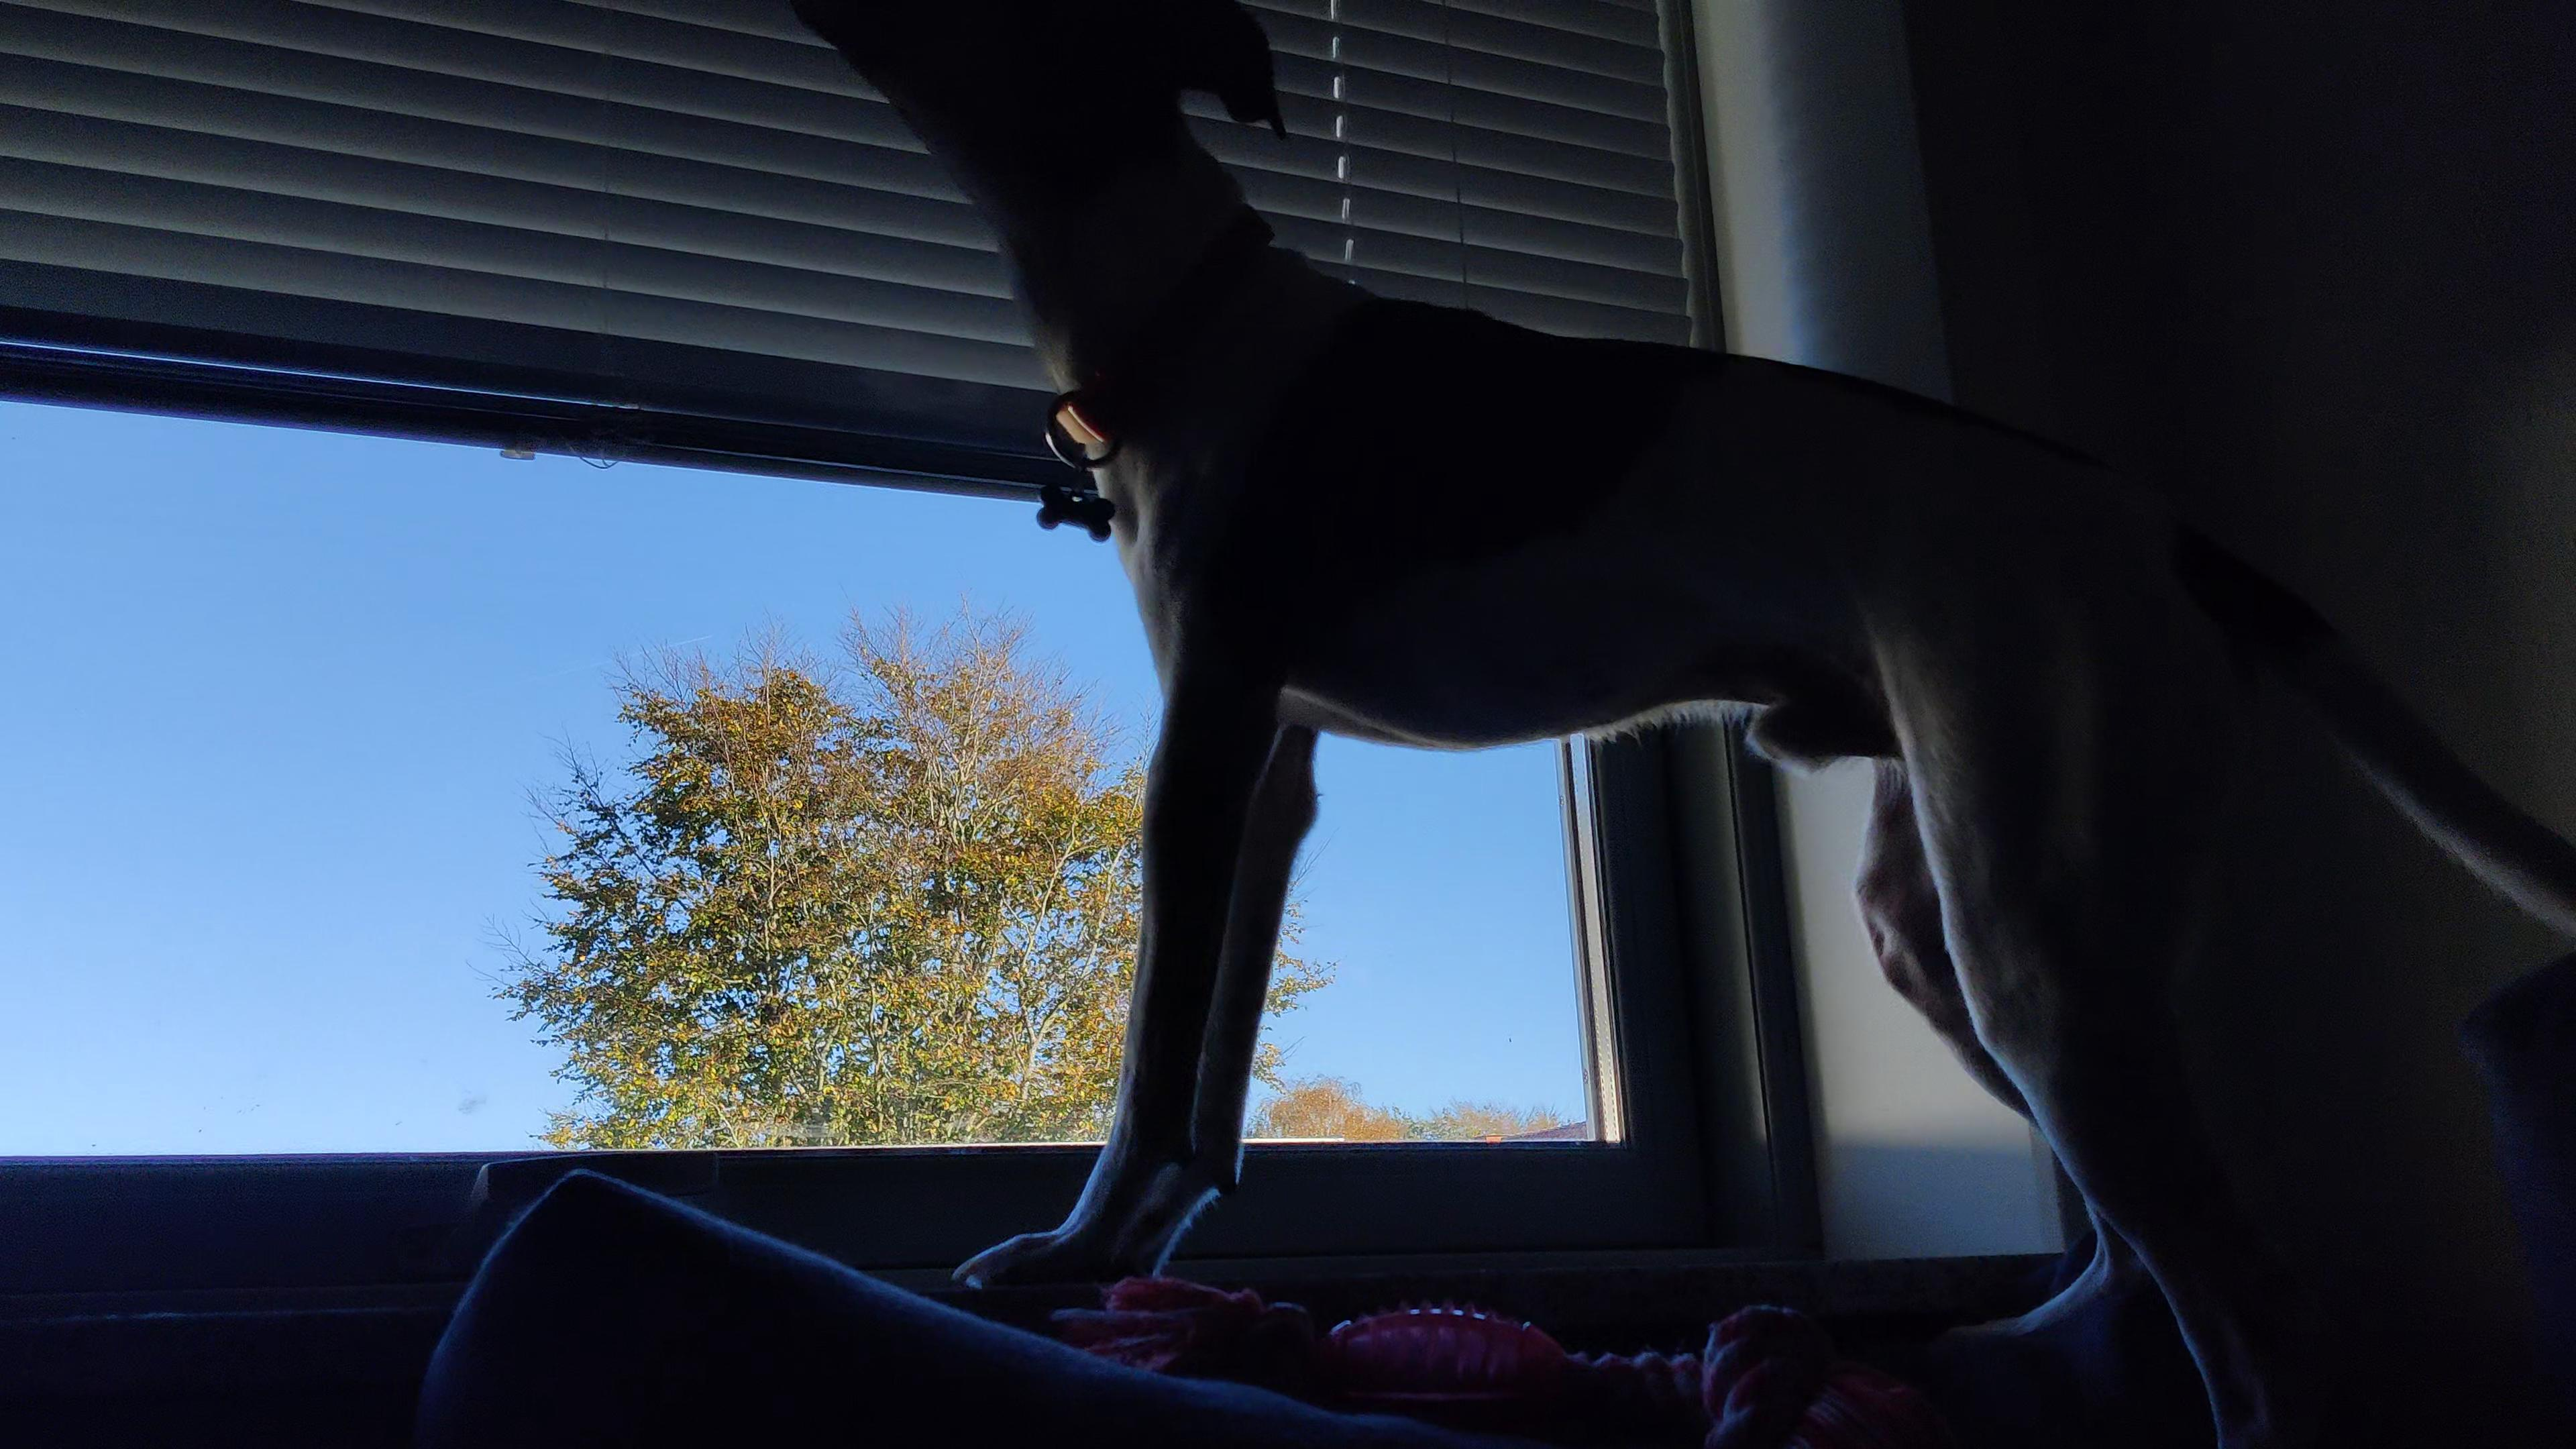Dog: (752, 0, 2576, 1449)
